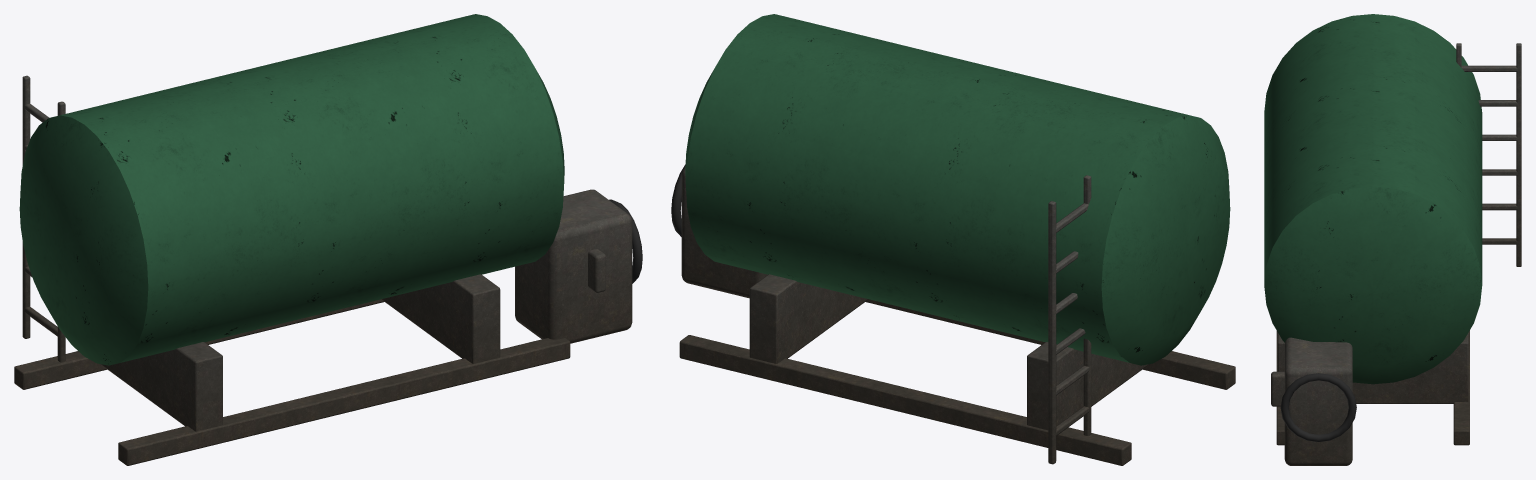
Rendered from prop_fueltank.glb.
3 views of the same model, side by side, from view 1: azimuth 30°, elevation 25°; view 2: azimuth 150°, elevation 25°; view 3: azimuth 270°, elevation 25° (orthographic). The views are drawn at different scales.
Visible parts, largest first — view 1: Tank, Frame; view 2: Tank, Frame; view 3: Tank, Frame, Hose.
Boxes of the visible parts, bbox=[...] form: Tank: bbox=[19, 14, 564, 365]; Frame: bbox=[14, 75, 632, 465]; Tank: bbox=[685, 14, 1230, 365]; Frame: bbox=[679, 168, 1235, 465]; Tank: bbox=[1264, 14, 1482, 384]; Frame: bbox=[1271, 43, 1521, 465]; Hose: bbox=[1280, 373, 1356, 442].
Bounding box in the file's own units: 3.8 × 2.05 × 1.89.
Materials: 3 (2 with a texture image).
